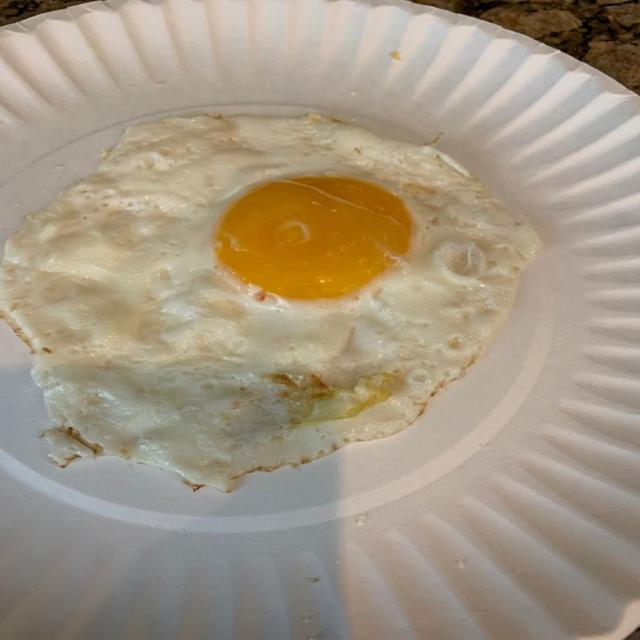fryed egg: (0, 117, 538, 489)
